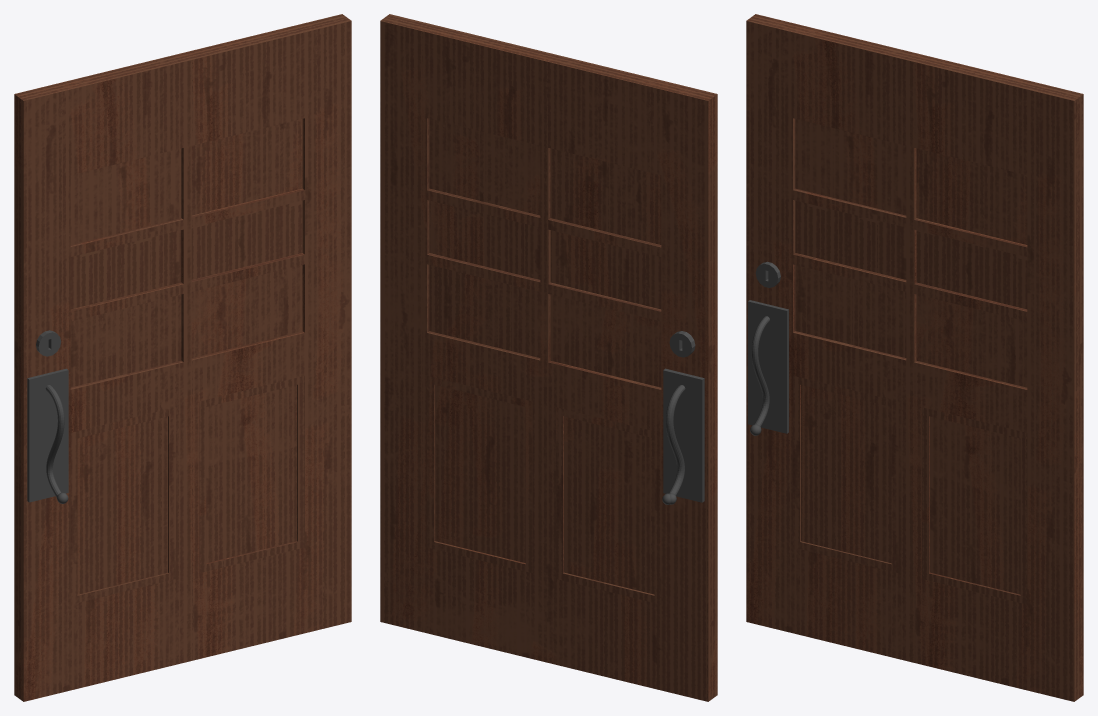
File: CabinBackDoor.fbx
3 renders of one model, left to right at view 1: azimuth 30°, elevation 25°; view 2: azimuth 150°, elevation 25°; view 3: azimuth 330°, elevation 25°, orthographic.
Parts seen in each view (by area): view 1: HandleBack.005; view 2: HandleBack.005, HandleFront, KeyholeBack.002; view 3: HandleBack.005.
Boxes of the visible parts, x1,y1,x2,y2 form: HandleBack.005: (14,14,351,701); HandleBack.005: (380,14,717,701); HandleFront: (665,385,682,493); KeyholeBack.002: (669,331,695,357); HandleBack.005: (746,14,1083,701).
Size of the model in its own units: 800 by 1400 by 195.
